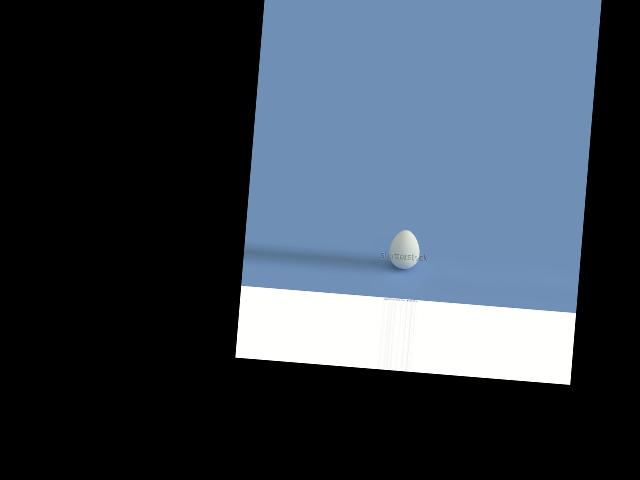egg: (388, 228, 421, 270)
